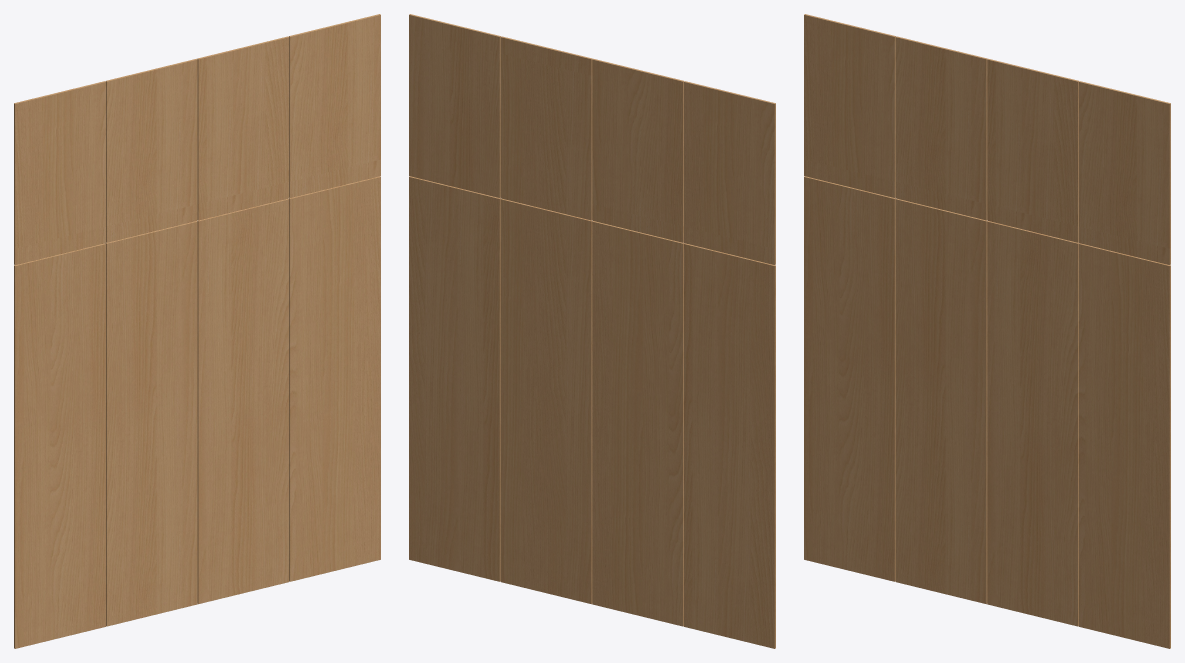
File: lockerVariantOne.gltf
3 views of the same model, side by side, from view 1: azimuth 30°, elevation 25°; view 2: azimuth 150°, elevation 25°; view 3: azimuth 330°, elevation 25° (orthographic).
Parts seen in each view (by area): view 1: lockerVariantOne; view 2: lockerVariantOne; view 3: lockerVariantOne.
Part boxes in pixels (<box>): lockerVariantOne: <box>14,14,380,648</box>; lockerVariantOne: <box>409,14,775,648</box>; lockerVariantOne: <box>804,14,1170,648</box>.
Bounding box in the file's own units: 1.9 × 2.7 × 0.01.
1 material, 1 textured.
